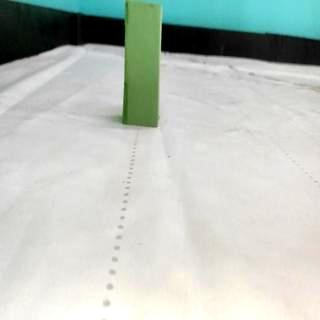greenbox: (124, 0, 160, 127)
